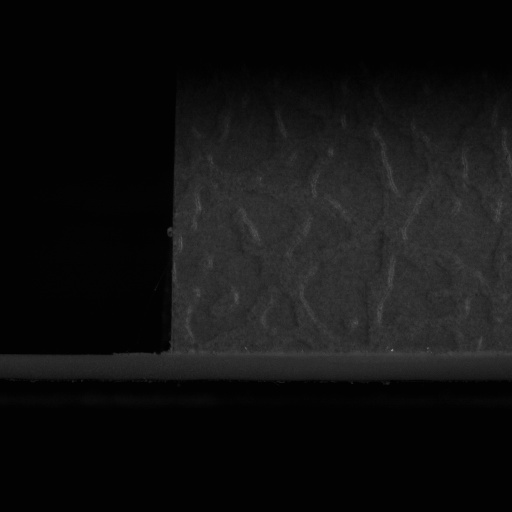changdai: (3, 351, 172, 383)
